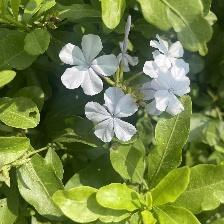chitrak: (58, 35, 119, 99), (87, 86, 139, 144), (154, 67, 191, 113)
